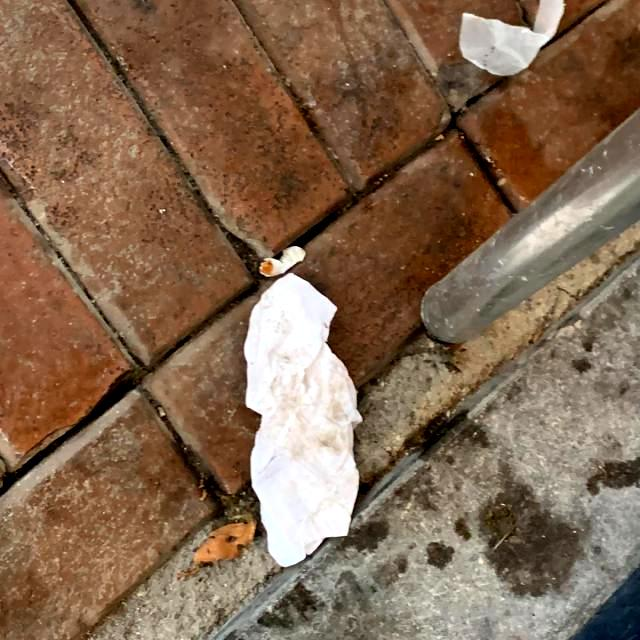Paper: (241, 272, 365, 568), (461, 0, 567, 76)
